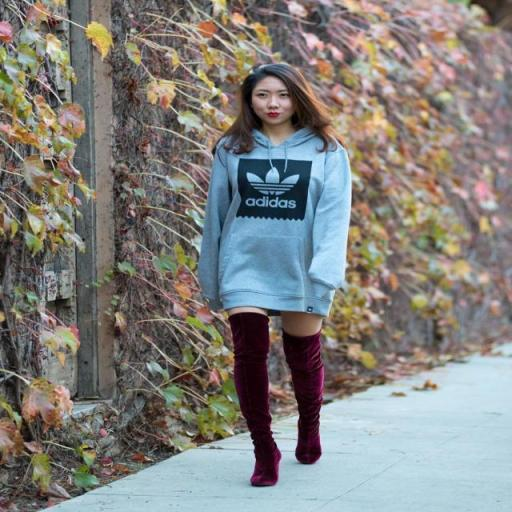Adidas: (236, 158, 308, 213)
